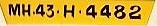character: (128, 5, 141, 20), (113, 4, 125, 19), (63, 4, 75, 18), (85, 4, 97, 18), (99, 4, 111, 18), (8, 3, 20, 16), (20, 3, 30, 16), (35, 3, 44, 17), (45, 4, 54, 18)
